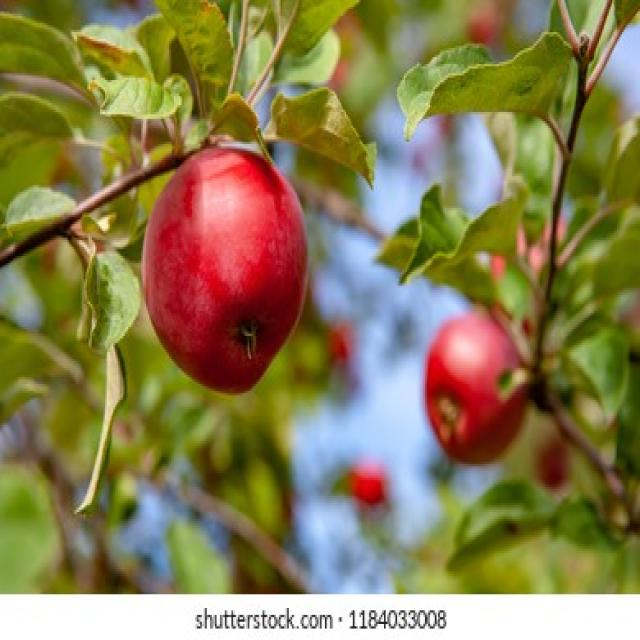apple_fruit: (124, 116, 325, 426)
